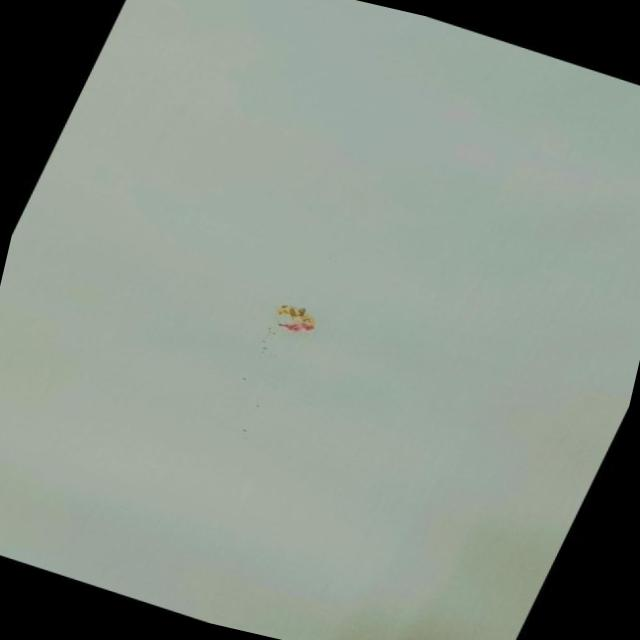stain: (250, 286, 340, 352)
